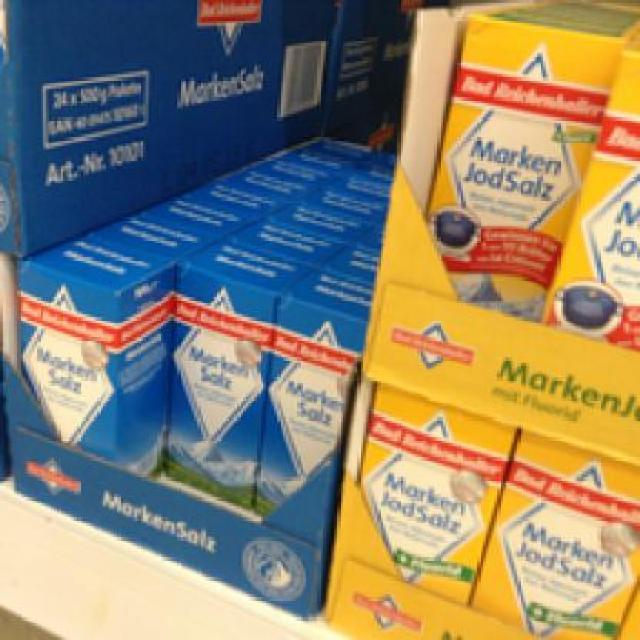Spices: (417, 6, 620, 320), (12, 232, 168, 472), (354, 380, 509, 603), (166, 240, 292, 503), (471, 428, 626, 638), (249, 274, 354, 523)
